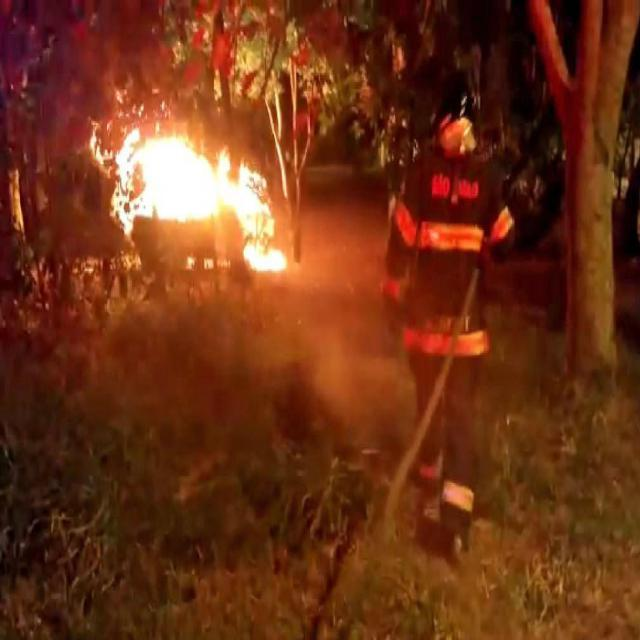Fire: (85, 127, 288, 271)
